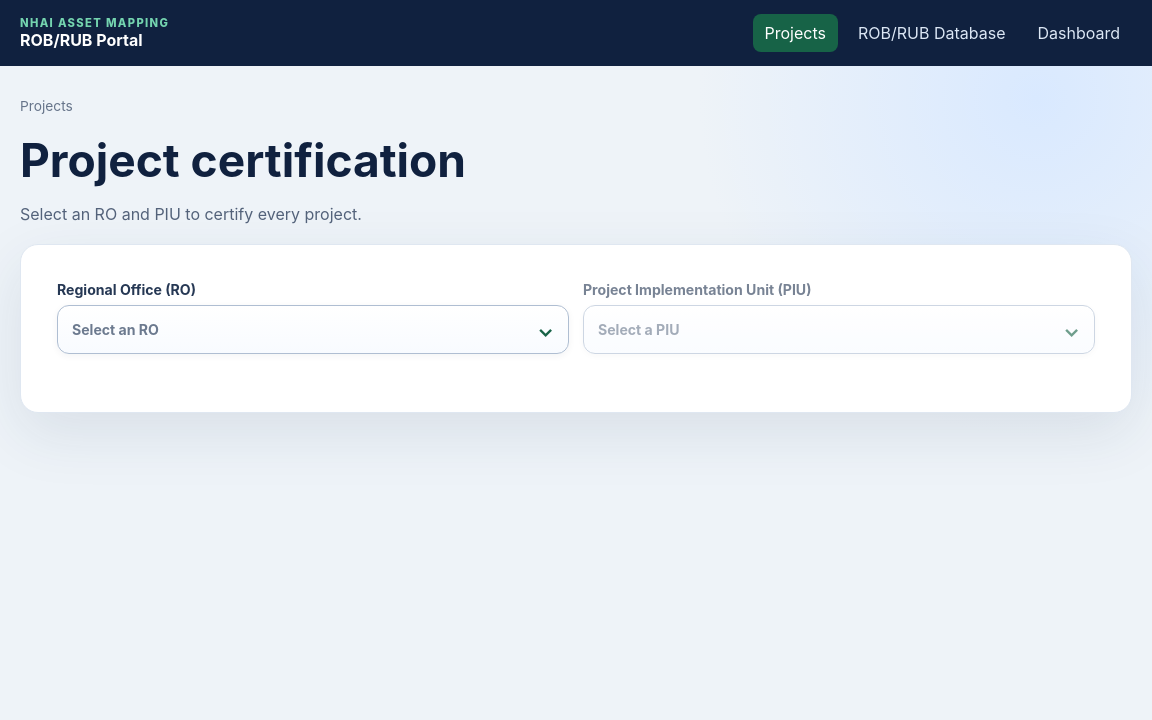
Scenario: certification portal › shows project grid and opens certification workflow
The width and height of the screenshot is (1152, 720).
Click the button "Select an RO ⌄".
click(115, 330)  # box [57,305,569,354]
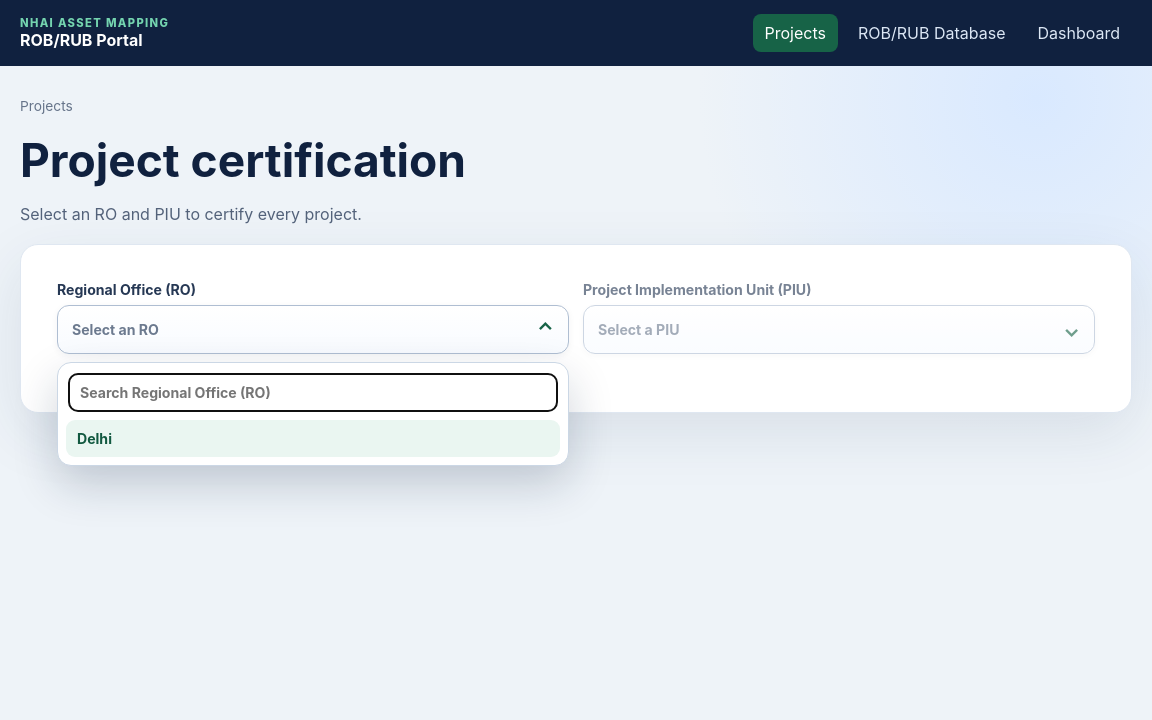
Click the option "Delhi".
click(94, 438)  # box [66,420,560,457]
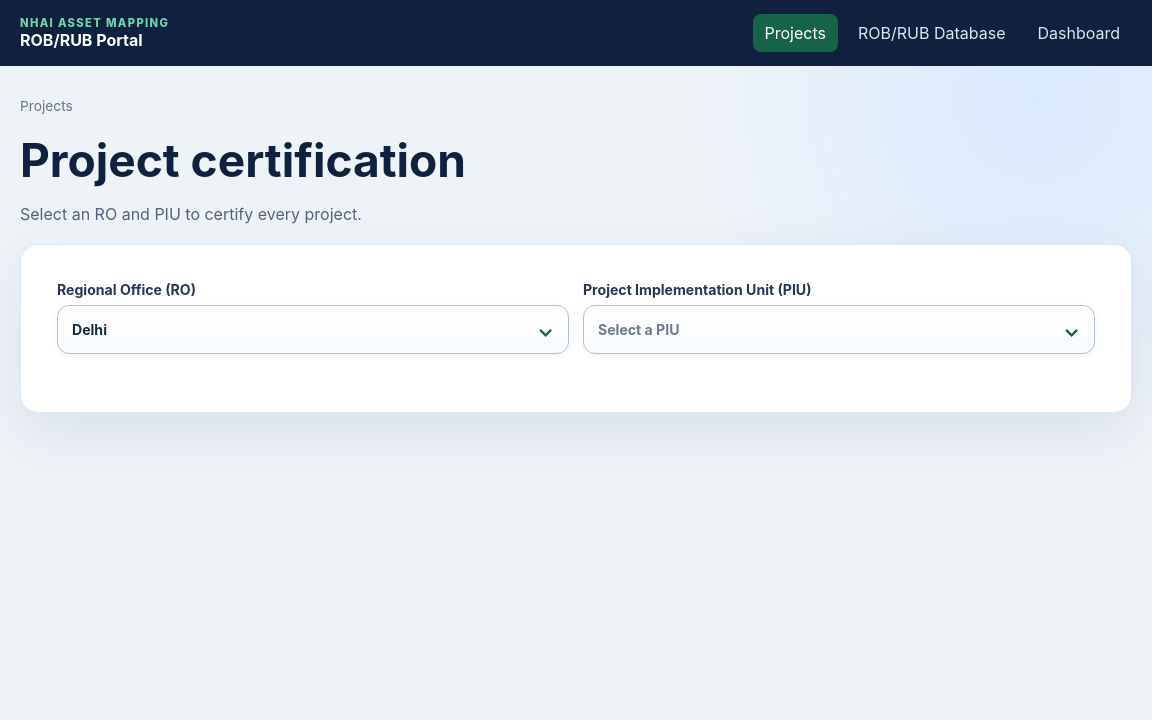
Click the button "Select a PIU ⌄".
click(639, 330)  # box [583,305,1095,354]
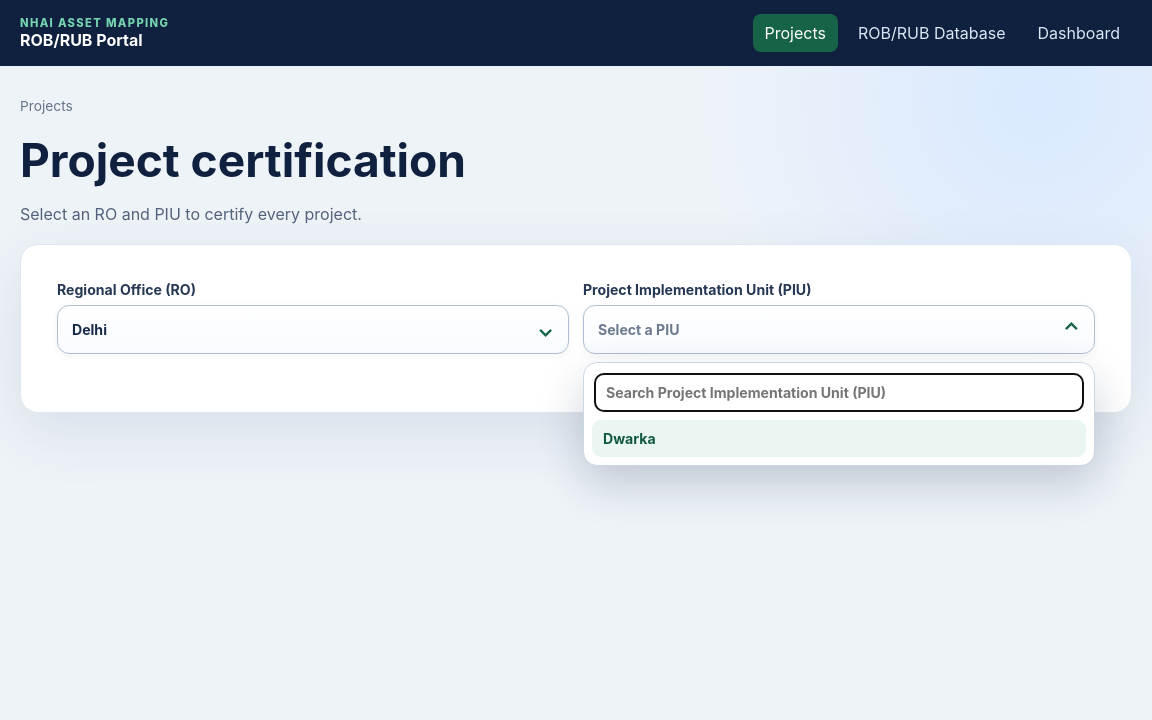
Click the option "Dwarka".
click(629, 438)  # box [592,420,1086,457]
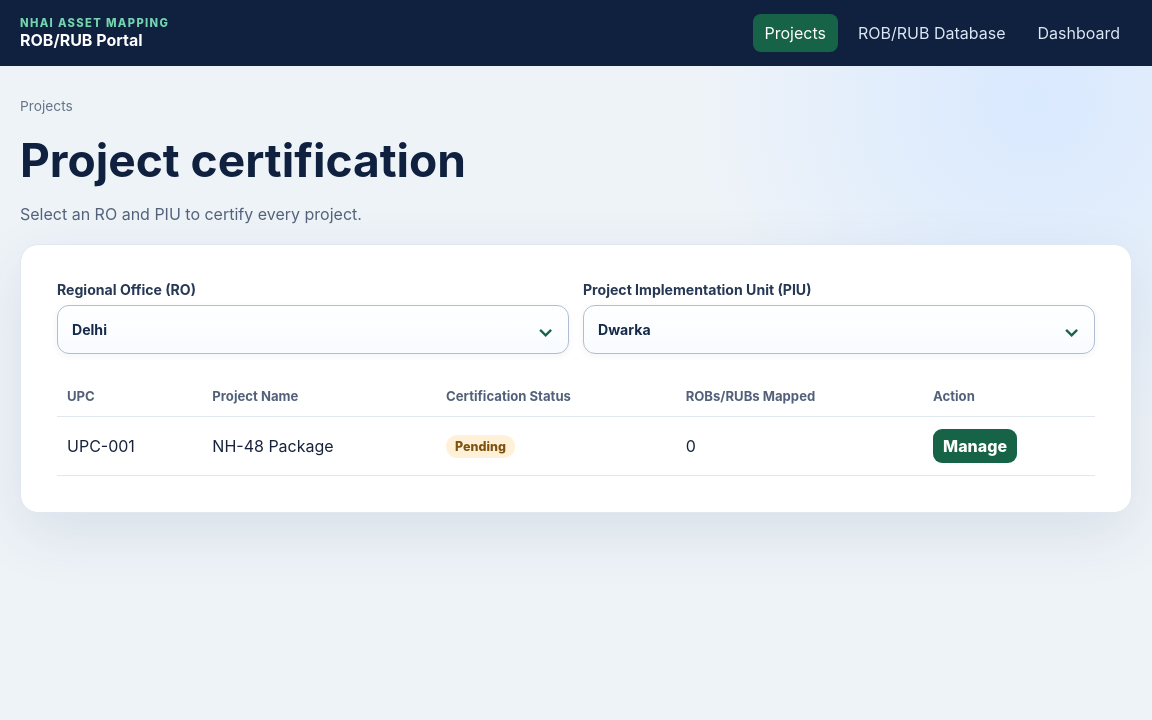
Now the text "UPC-001" is shown, box [57,416,202,476]
Click the link "Manage".
click(975, 446)  # box [933,429,1017,463]
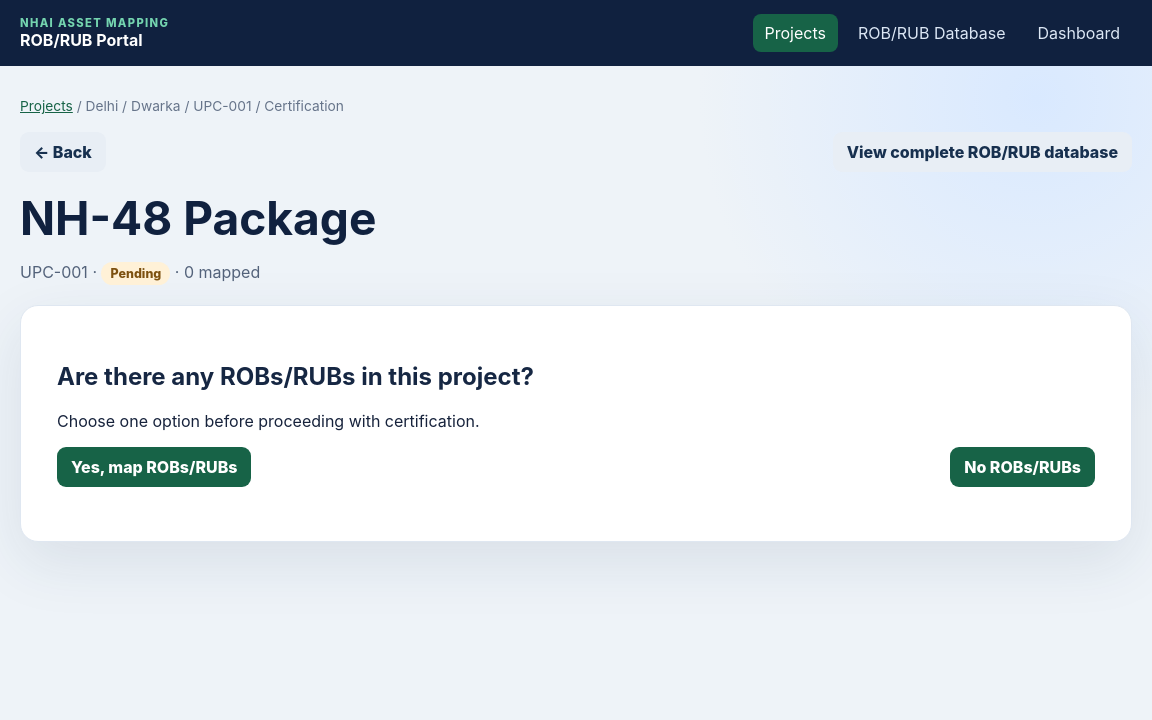
Now the heading "Are there any ROBs/RUBs in this project?" is shown, box [57,362,534,391]
